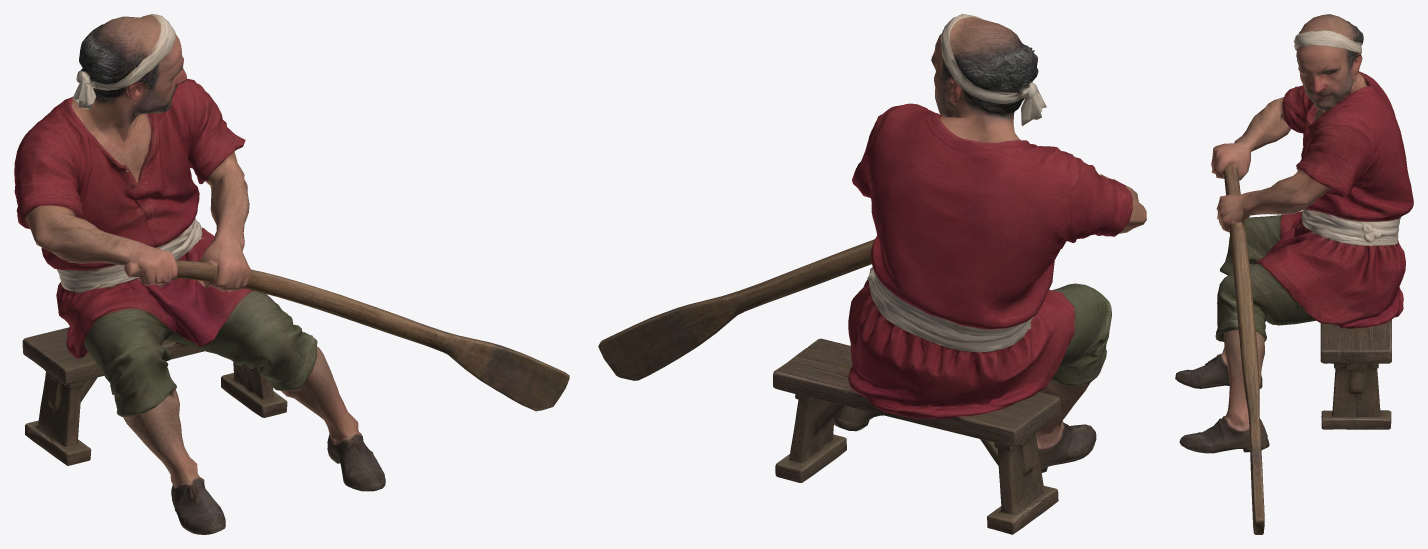
Rendered from osmanli-kadirga-kurekcisi-1550-1600-tripo-v1.glb.
The picture shows the model from 3 angles, left to right: view 1: azimuth 30°, elevation 25°; view 2: azimuth 150°, elevation 25°; view 3: azimuth 270°, elevation 25°; orthographic projection. The views are drawn at different scales.
Parts seen in each view (by area): view 1: tripo_node_331ad949-7969-4bcb-9784-2d91669d848c; view 2: tripo_node_331ad949-7969-4bcb-9784-2d91669d848c; view 3: tripo_node_331ad949-7969-4bcb-9784-2d91669d848c.
Boxes of the visible parts, x1,y1,x2,y2 form: tripo_node_331ad949-7969-4bcb-9784-2d91669d848c: [14, 14, 569, 534]; tripo_node_331ad949-7969-4bcb-9784-2d91669d848c: [598, 14, 1146, 534]; tripo_node_331ad949-7969-4bcb-9784-2d91669d848c: [1175, 14, 1413, 534].
Size of the model in its own units: 0.9802 by 0.8113 by 0.4778.
1 material, 1 textured.
